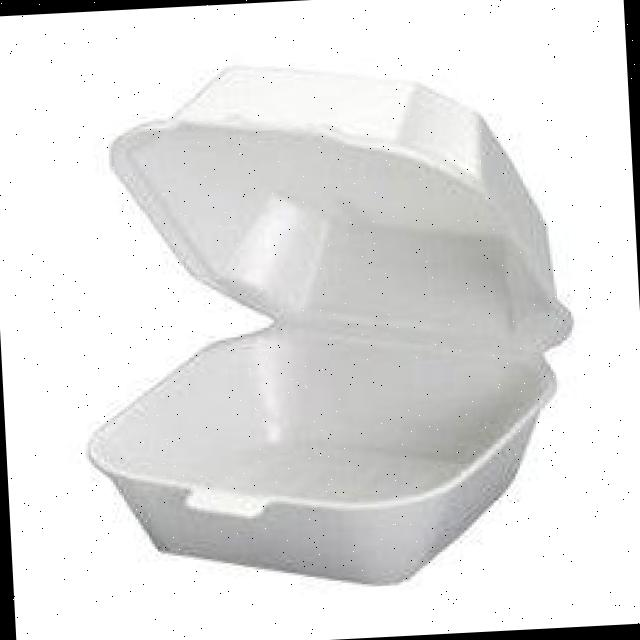styrofoam: (63, 43, 587, 601)
